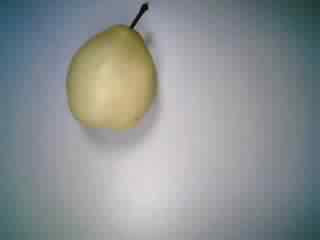pear: (54, 1, 174, 133)
